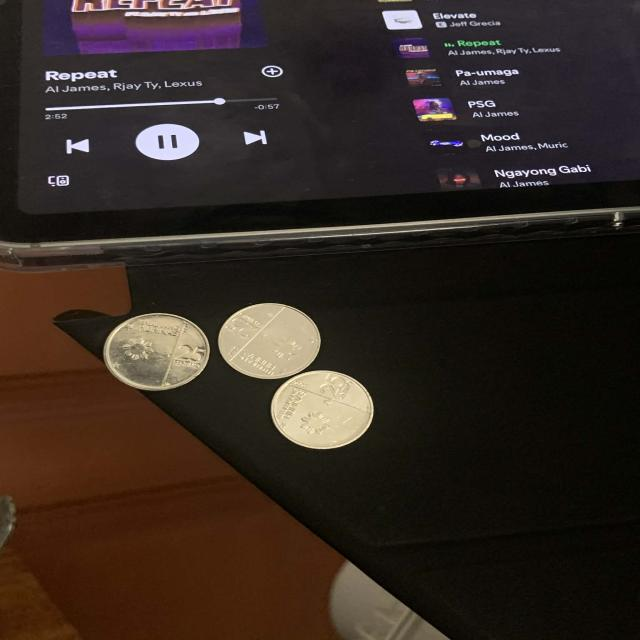25 cents: (97, 304, 214, 392), (270, 371, 376, 451), (217, 304, 322, 379)
